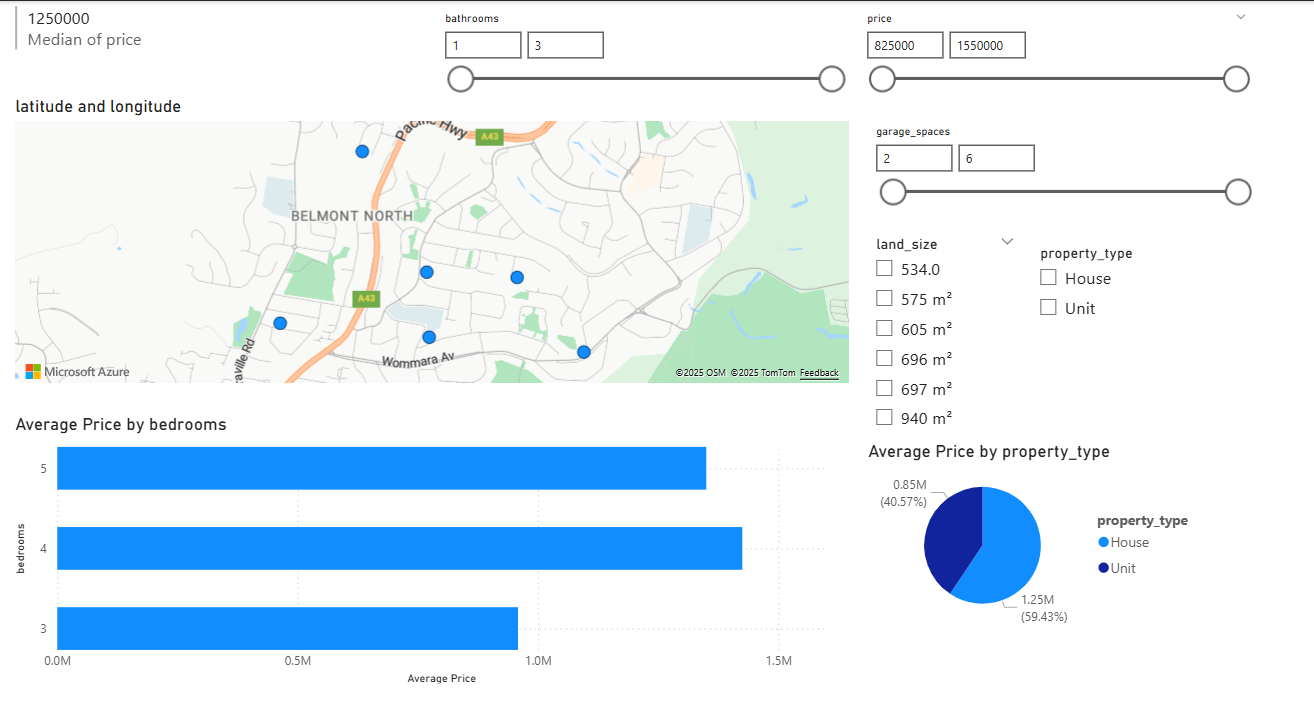

The dashboard page shown, as its layout file describes it:
{"tool":"powerbi","page":{"name":"Page 1","canvas":[1280,720],"ordinal":0},"visuals":[{"type":"multiRowCard","fields":{"Values":["Median(properties?suburb=Belmont North.price)"]},"box":[9.7,0,182.9,57.4],"z":0},{"type":"azureMap","fields":{"Y":["properties?suburb=Belmont North.latitude"],"X":["properties?suburb=Belmont North.longitude"]},"box":[10,92,821,284],"z":1000},{"type":"clusteredBarChart","fields":{"Y":["properties?suburb=Belmont North.Average Price"],"Category":["properties?suburb=Belmont North.bedrooms"]},"box":[9.7,401.7,813.1,267.5],"z":2000},{"type":"slicer","fields":{"Values":["properties?suburb=Belmont North.bathrooms"]},"box":[420.2,5.8,410.5,94.3],"z":3000},{"type":"slicer","fields":{"Values":["properties?suburb=Belmont North.land_size"]},"box":[839.4,222.7,159.5,205.2],"z":4000},{"type":"slicer","fields":{"Values":["properties?suburb=Belmont North.price"]},"box":[830.6,5.8,393.9,103.1],"z":5000},{"type":"slicer","fields":{"Values":["properties?suburb=Belmont North.garage_spaces"]},"box":[839.4,115.7,385.2,107],"z":6000},{"type":"slicer","fields":{"Values":["properties?suburb=Belmont North.property_type"]},"box":[998.9,231.5,224.7,94.3],"z":7000},{"type":"pieChart","fields":{"Category":["properties?suburb=Belmont North.property_type"],"Y":["properties?suburb=Belmont North.Average Price"]},"box":[839.4,428,337.5,183.8],"z":8000}]}

Visuals, with their boxes in screenshot pixels (x1, y1, x2, y2), scaled from the page's 1280x720 canvas onto the 1314x725 screenshot:
multiRowCard - Median(properties?suburb=Belmont North.price): BBox(10, 0, 198, 58)
azureMap - properties?suburb=Belmont North.latitude x properties?suburb=Belmont North.longitude: BBox(10, 93, 853, 379)
clusteredBarChart - properties?suburb=Belmont North.Average Price x properties?suburb=Belmont North.bedrooms: BBox(10, 404, 845, 674)
slicer - properties?suburb=Belmont North.bathrooms: BBox(431, 6, 853, 101)
slicer - properties?suburb=Belmont North.land_size: BBox(862, 224, 1025, 431)
slicer - properties?suburb=Belmont North.price: BBox(853, 6, 1257, 110)
slicer - properties?suburb=Belmont North.garage_spaces: BBox(862, 117, 1257, 224)
slicer - properties?suburb=Belmont North.property_type: BBox(1025, 233, 1256, 328)
pieChart - properties?suburb=Belmont North.property_type x properties?suburb=Belmont North.Average Price: BBox(862, 431, 1208, 616)
